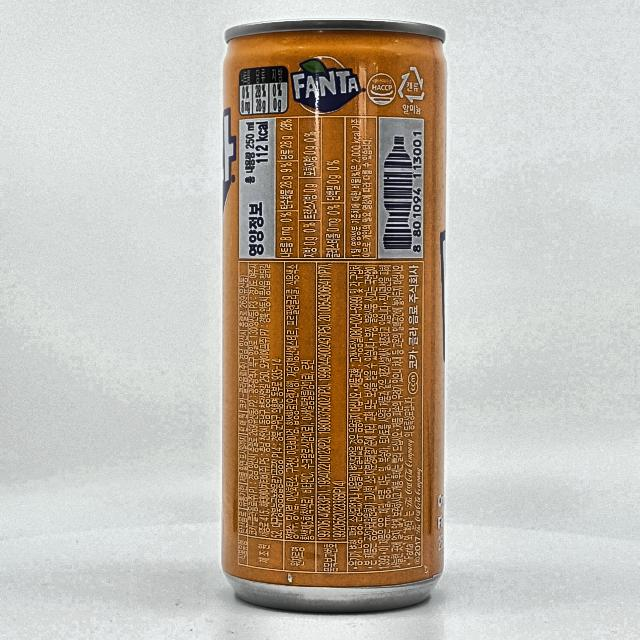fantaorange: (222, 20, 446, 611)
